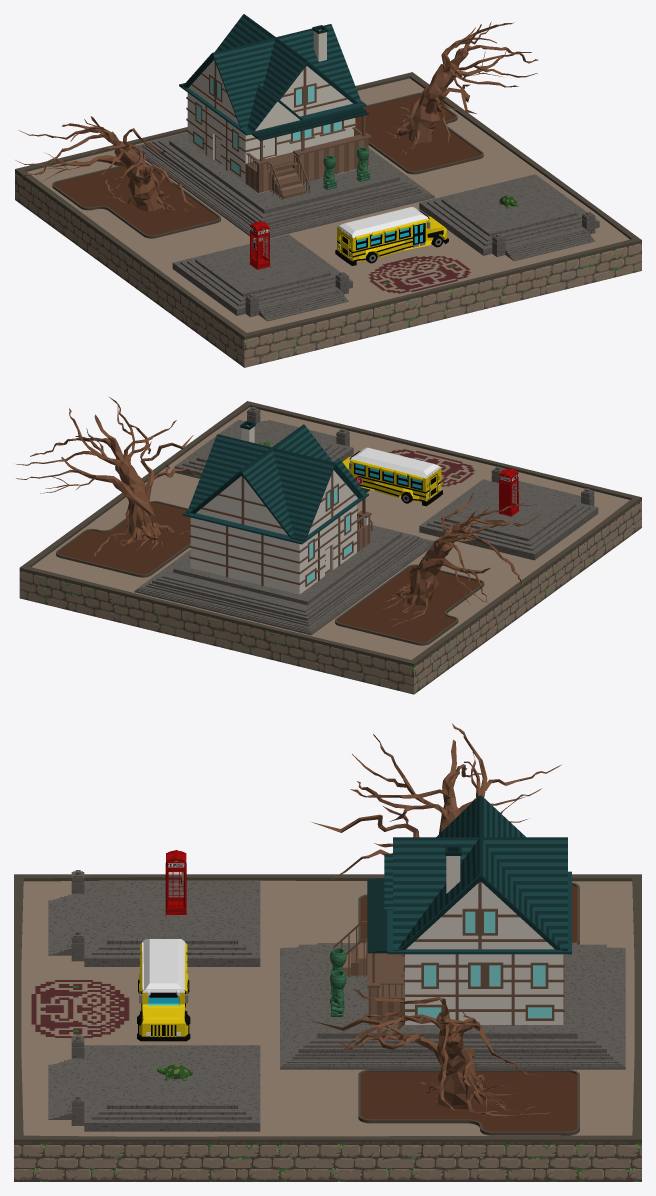
The picture shows the model from 3 angles, top to bottom: view 1: azimuth 30°, elevation 25°; view 2: azimuth 150°, elevation 25°; view 3: azimuth 270°, elevation 25°; orthographic projection. The views are drawn at different scales.
Parts seen in each view (by area): view 1: Cube.011, Cube.793, VEHICLES_SCHOOL_BUS, OBJRANDOM_PHONEBOOTH; view 2: Cube.011, Cube.793, VEHICLES_SCHOOL_BUS, OBJRANDOM_PHONEBOOTH; view 3: Cube.011, Cube.793, VEHICLES_SCHOOL_BUS, OBJRANDOM_PHONEBOOTH.
Boxes of the visible parts, <box> form: Cube.011: <box>15,22,641,367</box>; Cube.793: <box>179,14,371,199</box>; VEHICLES_SCHOOL_BUS: <box>335,207,448,265</box>; OBJRANDOM_PHONEBOOTH: <box>249,221,270,269</box>; Cube.011: <box>14,397,641,694</box>; Cube.793: <box>182,421,372,594</box>; VEHICLES_SCHOOL_BUS: <box>342,447,442,506</box>; OBJRANDOM_PHONEBOOTH: <box>498,468,519,516</box>; Cube.011: <box>14,723,641,1181</box>; Cube.793: <box>333,795,571,1025</box>; VEHICLES_SCHOOL_BUS: <box>137,939,190,1041</box>; OBJRANDOM_PHONEBOOTH: <box>165,850,186,914</box>.
Size of the model in its own units: 5099 by 1663 by 4000.
40 materials, 6 textured.
